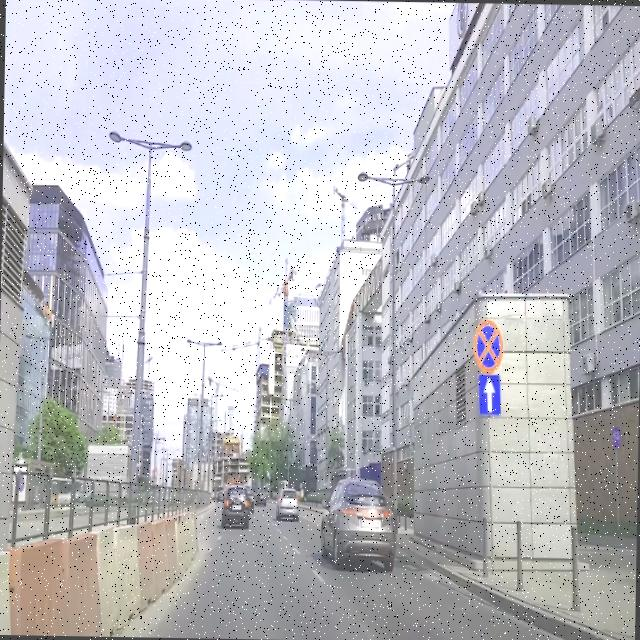Zakaz zatrzymywania sie: (472, 318, 502, 373)
